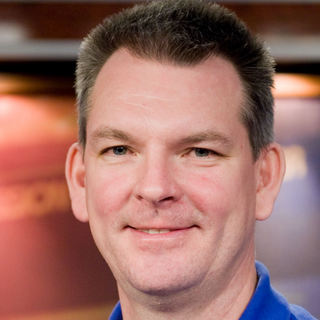eye: (168, 141, 231, 169), (92, 135, 142, 168)
